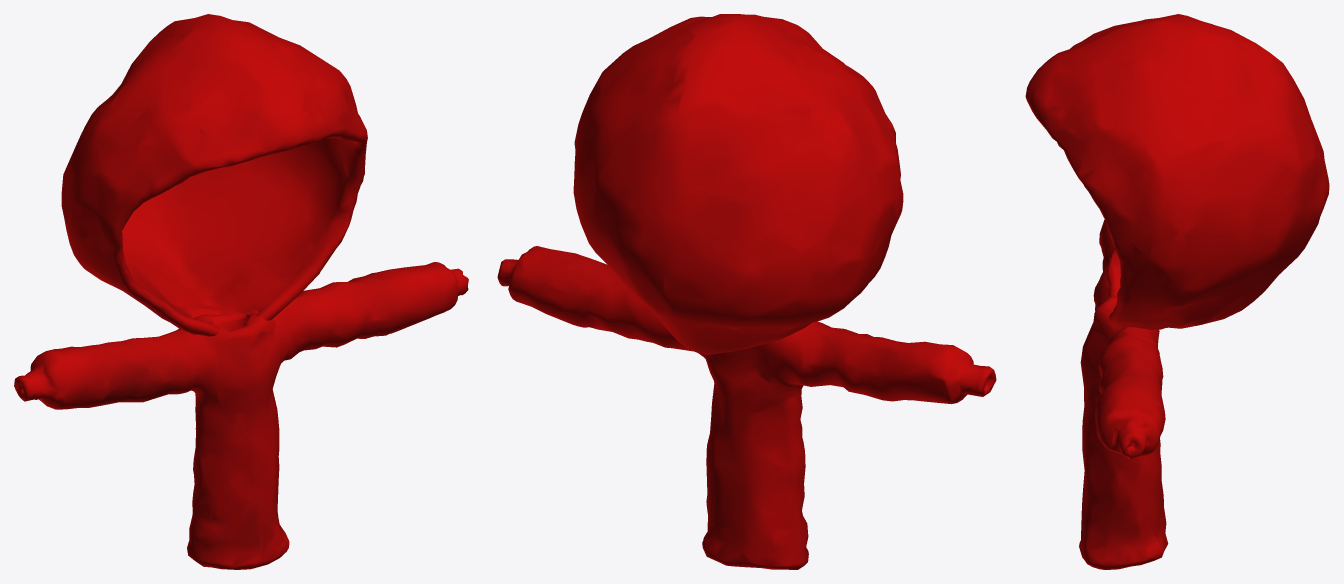
File: hoodie red.glb
3 views of the same model, side by side, from view 1: azimuth 30°, elevation 25°; view 2: azimuth 150°, elevation 25°; view 3: azimuth 270°, elevation 25° (orthographic). The views are drawn at different scales.
Parts seen in each view (by area): view 1: shirt_hoodie_up_red.001; view 2: shirt_hoodie_up_red.001; view 3: shirt_hoodie_up_red.001.
Part boxes in pixels (box(x1,y1,x2,y2)): shirt_hoodie_up_red.001: box(14, 14, 468, 569); shirt_hoodie_up_red.001: box(497, 14, 996, 569); shirt_hoodie_up_red.001: box(1025, 14, 1329, 569).
Size of the model in its own units: 0.7054 by 0.7664 by 0.3928.
Materials: 2 (2 with a texture image).
